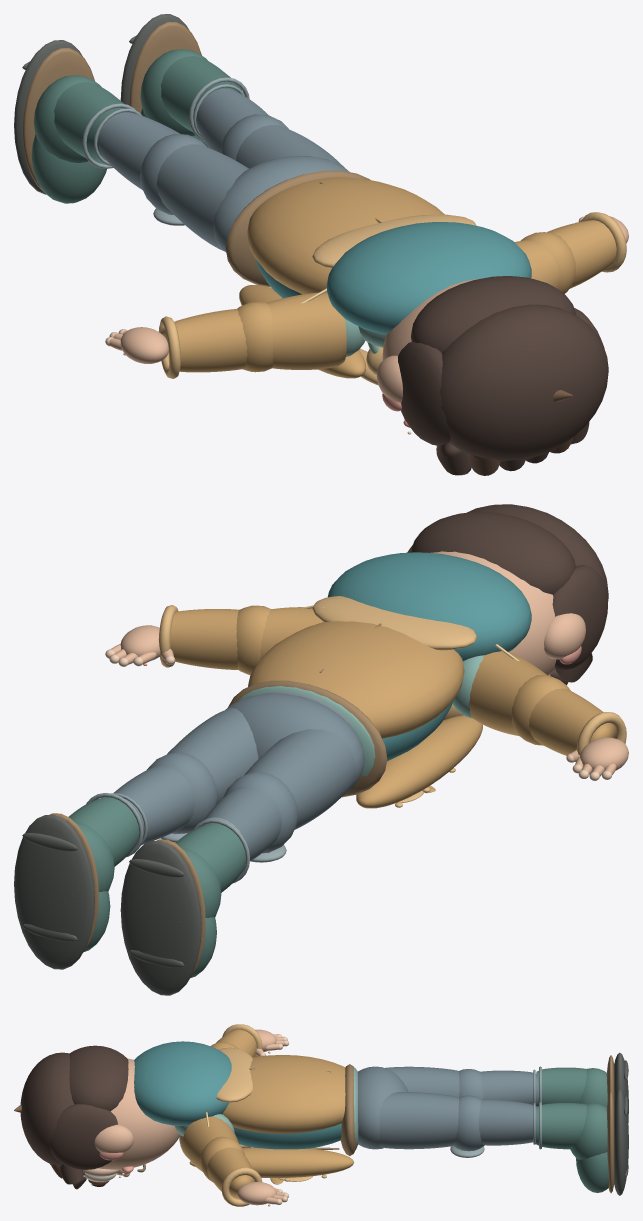
3 views of the same model, one above another, from view 1: azimuth 30°, elevation 25°; view 2: azimuth 150°, elevation 25°; view 3: azimuth 270°, elevation 25° (orthographic). The views are drawn at different scales.
Visible parts, largest first — view 1: Hair cap / hair, Hood outer / shirt, Field jacket back / jacket, Trouser upper legs / pants, Coat forearms / jacket, Coat sleeves / jacket, Back hair / hair, Boot shafts / boot, Trouser lower legs / pants, Boot welt / jacket_dark, Side hair / hair, Waterproof boots / boot (+16 smaller); view 2: Boot soles / sole, Field jacket back / jacket, Hood outer / shirt, Trouser upper legs / pants, Back hair / hair, Coat forearms / jacket, Trouser lower legs / pants, Coat sleeves / jacket, Open coat fronts / jacket, Boot shafts / boot, Trouser waist / pants, Knee forms / pants (+17 smaller); view 3: Field jacket back / jacket, Hood outer / shirt, Trouser upper legs / pants, Trouser lower legs / pants, Hair cap / hair, Boot shafts / boot, Back hair / hair, Side hair / hair, Head / skin, Open coat fronts / jacket, Trouser waist / pants, Waterproof boots / boot (+16 smaller).
Part boxes in pixels (bbox=[...]): Hair cap / hair: bbox=[439, 304, 608, 461]; Hood outer / shirt: bbox=[326, 222, 531, 334]; Field jacket back / jacket: bbox=[247, 177, 444, 294]; Trouser upper legs / pants: bbox=[156, 125, 343, 251]; Coat forearms / jacket: bbox=[165, 220, 616, 372]; Coat sleeves / jacket: bbox=[267, 240, 560, 369]; Back hair / hair: bbox=[411, 276, 575, 352]; Boot shafts / boot: bbox=[54, 56, 242, 164]; Trouser lower legs / pants: bbox=[98, 89, 268, 189]; Boot welt / jacket_dark: bbox=[23, 22, 201, 192]; Side hair / hair: bbox=[398, 308, 604, 445]; Waterproof boots / boot: bbox=[33, 49, 207, 162]; Boot soles / sole: bbox=[14, 815, 201, 995]; Field jacket back / jacket: bbox=[248, 621, 464, 738]; Hood outer / shirt: bbox=[327, 552, 531, 660]; Trouser upper legs / pants: bbox=[167, 707, 355, 829]; Back hair / hair: bbox=[411, 512, 575, 594]; Coat forearms / jacket: bbox=[170, 609, 616, 755]; Trouser lower legs / pants: bbox=[110, 765, 281, 861]; Coat sleeves / jacket: bbox=[260, 607, 547, 736]; Open coat fronts / jacket: bbox=[356, 715, 482, 808]; Boot shafts / boot: bbox=[68, 797, 245, 892]; Trouser waist / pants: bbox=[225, 693, 364, 792]; Knee forms / pants: bbox=[147, 752, 298, 853]; Field jacket back / jacket: bbox=[222, 1055, 345, 1133]; Hood outer / shirt: bbox=[134, 1041, 231, 1125]; Trouser upper legs / pants: bbox=[379, 1066, 459, 1149]; Trouser lower legs / pants: bbox=[479, 1070, 538, 1145]; Hair cap / hair: bbox=[20, 1052, 74, 1165]; Boot shafts / boot: bbox=[535, 1067, 586, 1149]; Back hair / hair: bbox=[69, 1045, 128, 1111]; Side hair / hair: bbox=[50, 1104, 117, 1169]; Head / skin: bbox=[98, 1058, 180, 1169]; Open coat fronts / jacket: bbox=[242, 1147, 353, 1177]; Trouser waist / pants: bbox=[358, 1066, 408, 1149]; Waterproof boots / boot: bbox=[570, 1068, 607, 1159].
Size of the model in its own units: 0.9948 by 0.338 by 1.54.
